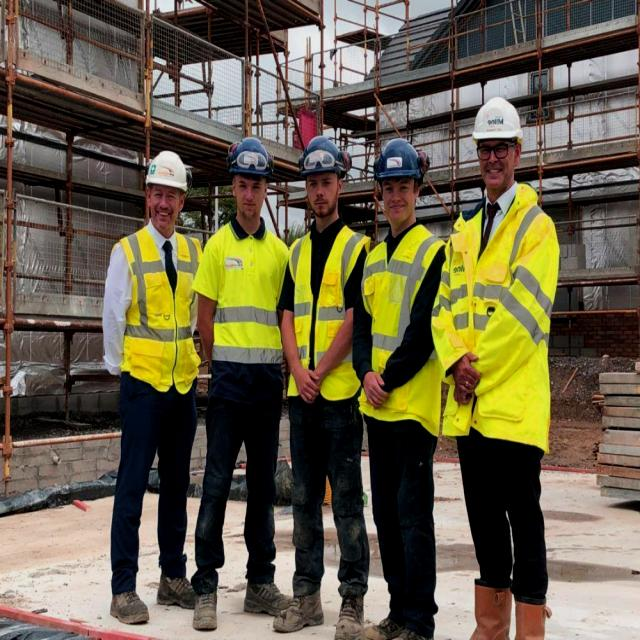face_nomask: (478, 132, 514, 194), (302, 171, 340, 221), (379, 180, 417, 224), (144, 186, 180, 230), (232, 176, 267, 218)
glasses: (476, 137, 512, 165), (304, 144, 337, 173), (234, 148, 270, 170)
hand_noglove: (447, 352, 479, 411), (293, 366, 334, 406), (360, 370, 395, 414)
head_helmet: (471, 95, 522, 144), (374, 138, 424, 183), (297, 132, 347, 175), (146, 148, 187, 194), (227, 137, 273, 175)
person: (442, 96, 554, 639), (190, 141, 285, 633), (99, 147, 195, 628), (273, 134, 363, 639), (363, 137, 443, 640)
shoes: (268, 587, 328, 640), (241, 576, 297, 622), (156, 566, 208, 612), (107, 584, 156, 628), (333, 589, 372, 640), (192, 581, 223, 638)
vest: (439, 180, 558, 439), (361, 233, 447, 433), (202, 218, 290, 396), (116, 222, 204, 390), (287, 219, 369, 398)
